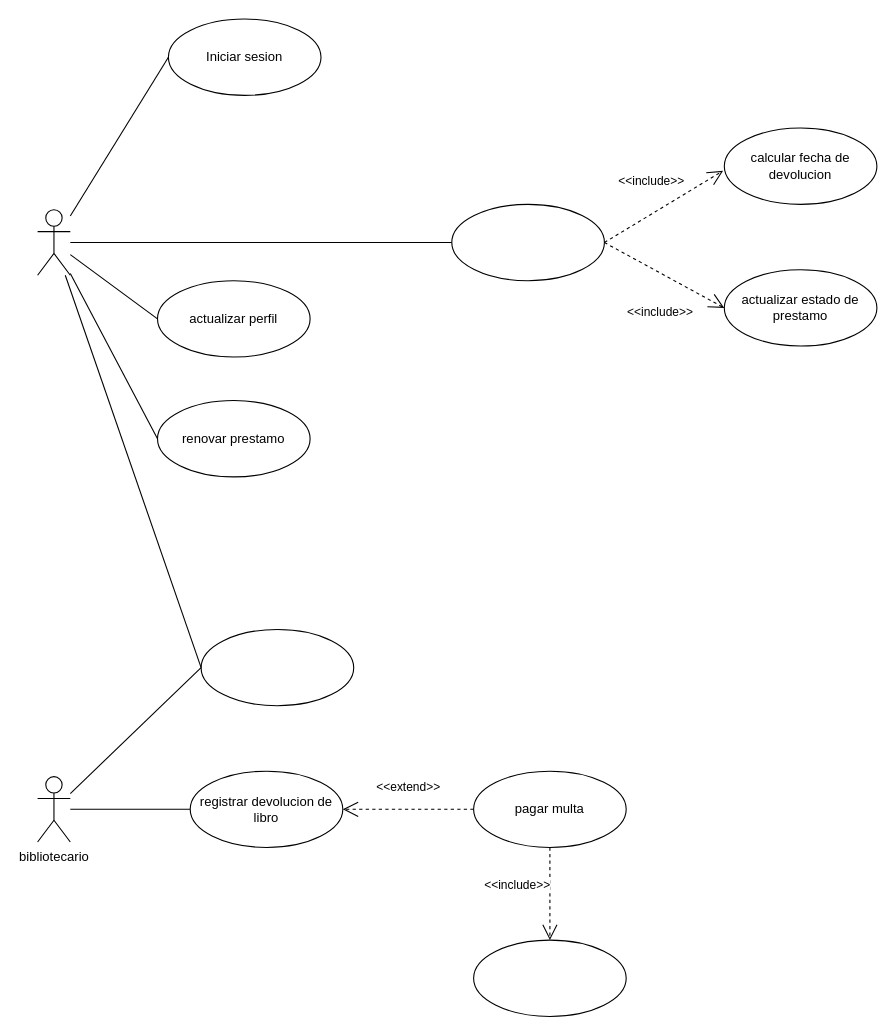
This 896x1036 diagram has some shape labels left out. Each missing label, with the centre of its shape:
"calcular monto" belongs at point (549, 977).
"consultar catalogo de libros" belongs at point (277, 667).
"solicitar prestamo de libro" belongs at point (527, 242).
"usuario" belongs at point (53, 242).
